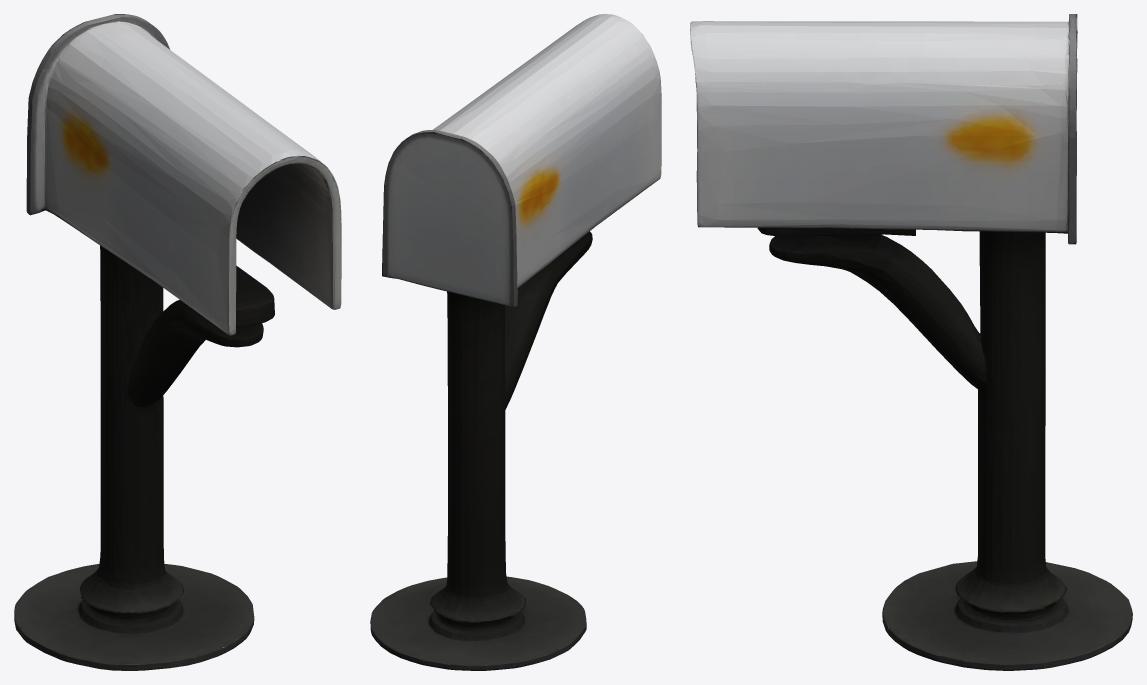
Rendered from mailbox_post.glb.
The picture shows the model from 3 angles, left to right: view 1: azimuth 30°, elevation 25°; view 2: azimuth 150°, elevation 25°; view 3: azimuth 270°, elevation 25°; orthographic projection. The views are drawn at different scales.
Parts seen in each view (by area): view 1: geometry_0; view 2: geometry_0; view 3: geometry_0.
Boxes of the visible parts, x1,y1,x2,y2 form: geometry_0: [14, 14, 341, 670]; geometry_0: [370, 14, 661, 670]; geometry_0: [690, 14, 1132, 670].
Size of the model in its own units: 0.3797 by 0.9992 by 0.6745.
Materials: 1 (1 with a texture image).
